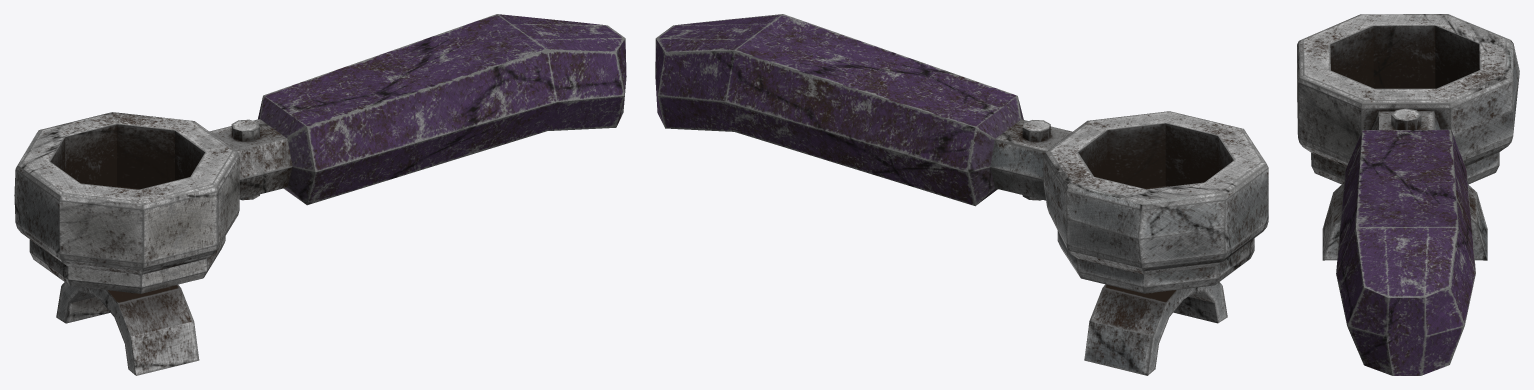
Rendered from Porta_Filtro.glb.
3 views of the same model, side by side, from view 1: azimuth 30°, elevation 25°; view 2: azimuth 150°, elevation 25°; view 3: azimuth 270°, elevation 25° (orthographic). The views are drawn at different scales.
Parts seen in each view (by area): view 1: Portafiltro; view 2: Portafiltro; view 3: Portafiltro.
Boxes of the visible parts, <box> form: Portafiltro: <box>14,14,626,375</box>; Portafiltro: <box>655,14,1268,375</box>; Portafiltro: <box>1297,14,1519,375</box>.
Bounding box in the file's own units: 0.2474 × 0.0855 × 0.0798.
Materials: 1 (1 with a texture image).
